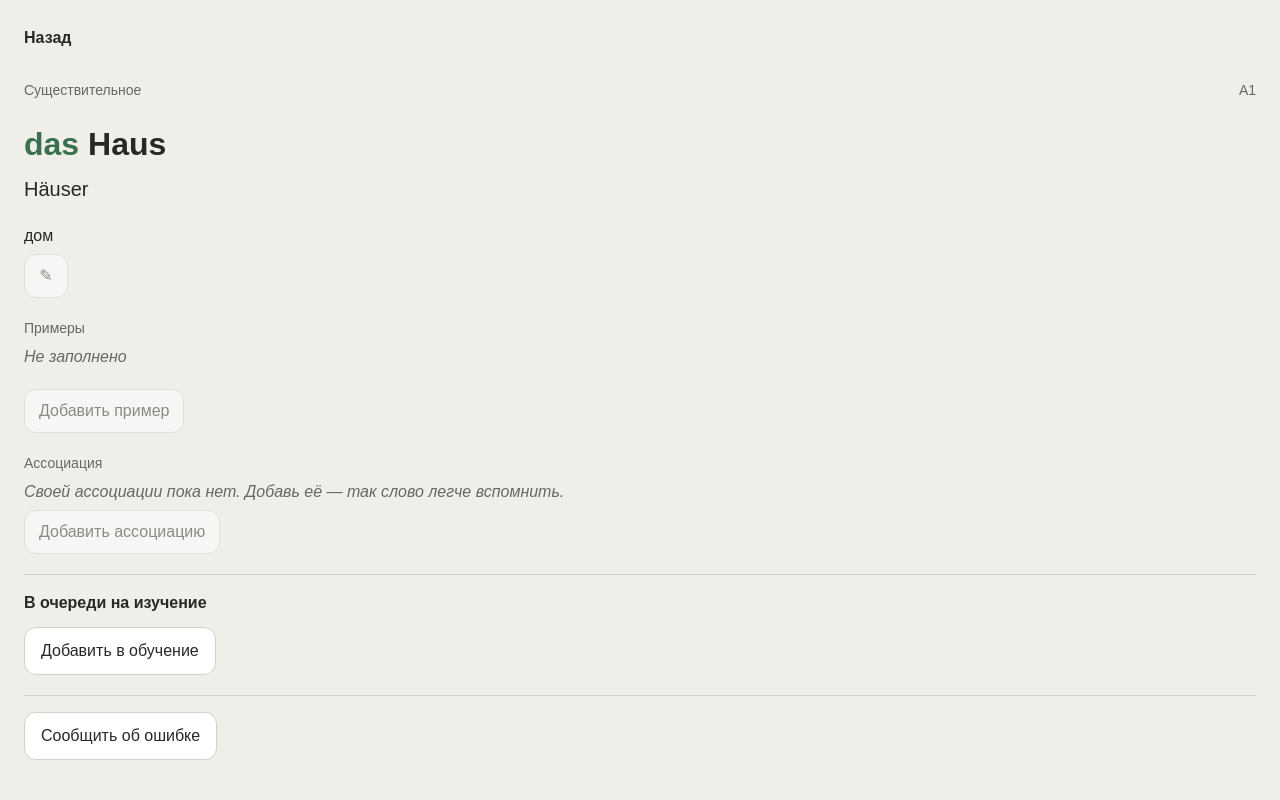
Test: М12 card host: card read, card context, manual Learning choice, Back › H5 a refused change shows its message, keeps the facts and no second command is sent
The width and height of the screenshot is (1280, 800).
Click the button "Добавить в обучение" at (120, 651), box [24,627,216,675]
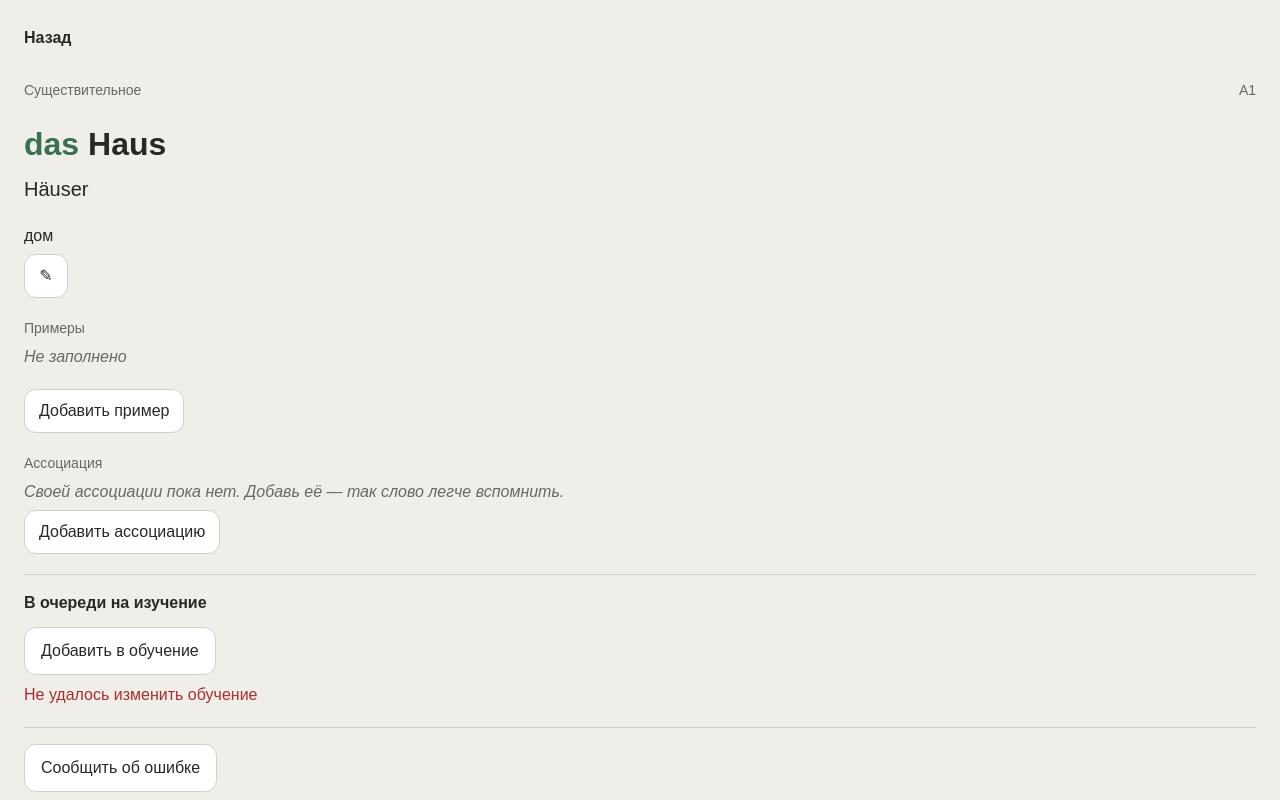
Expected: the text "В очереди на изучение" is shown, [24,594,207,611]
Expected: the text "Не удалось изменить обучение" is shown, [24,683,258,707]
